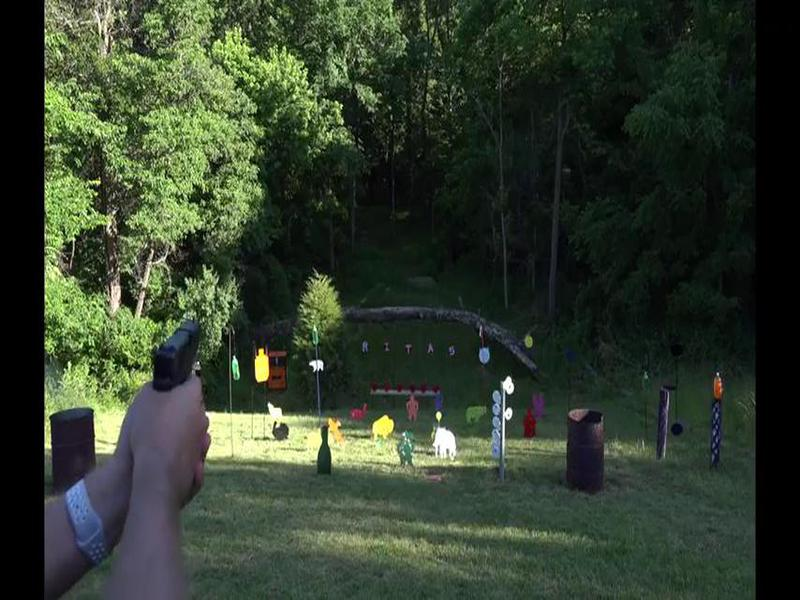Pistola: (138, 310, 207, 412)
